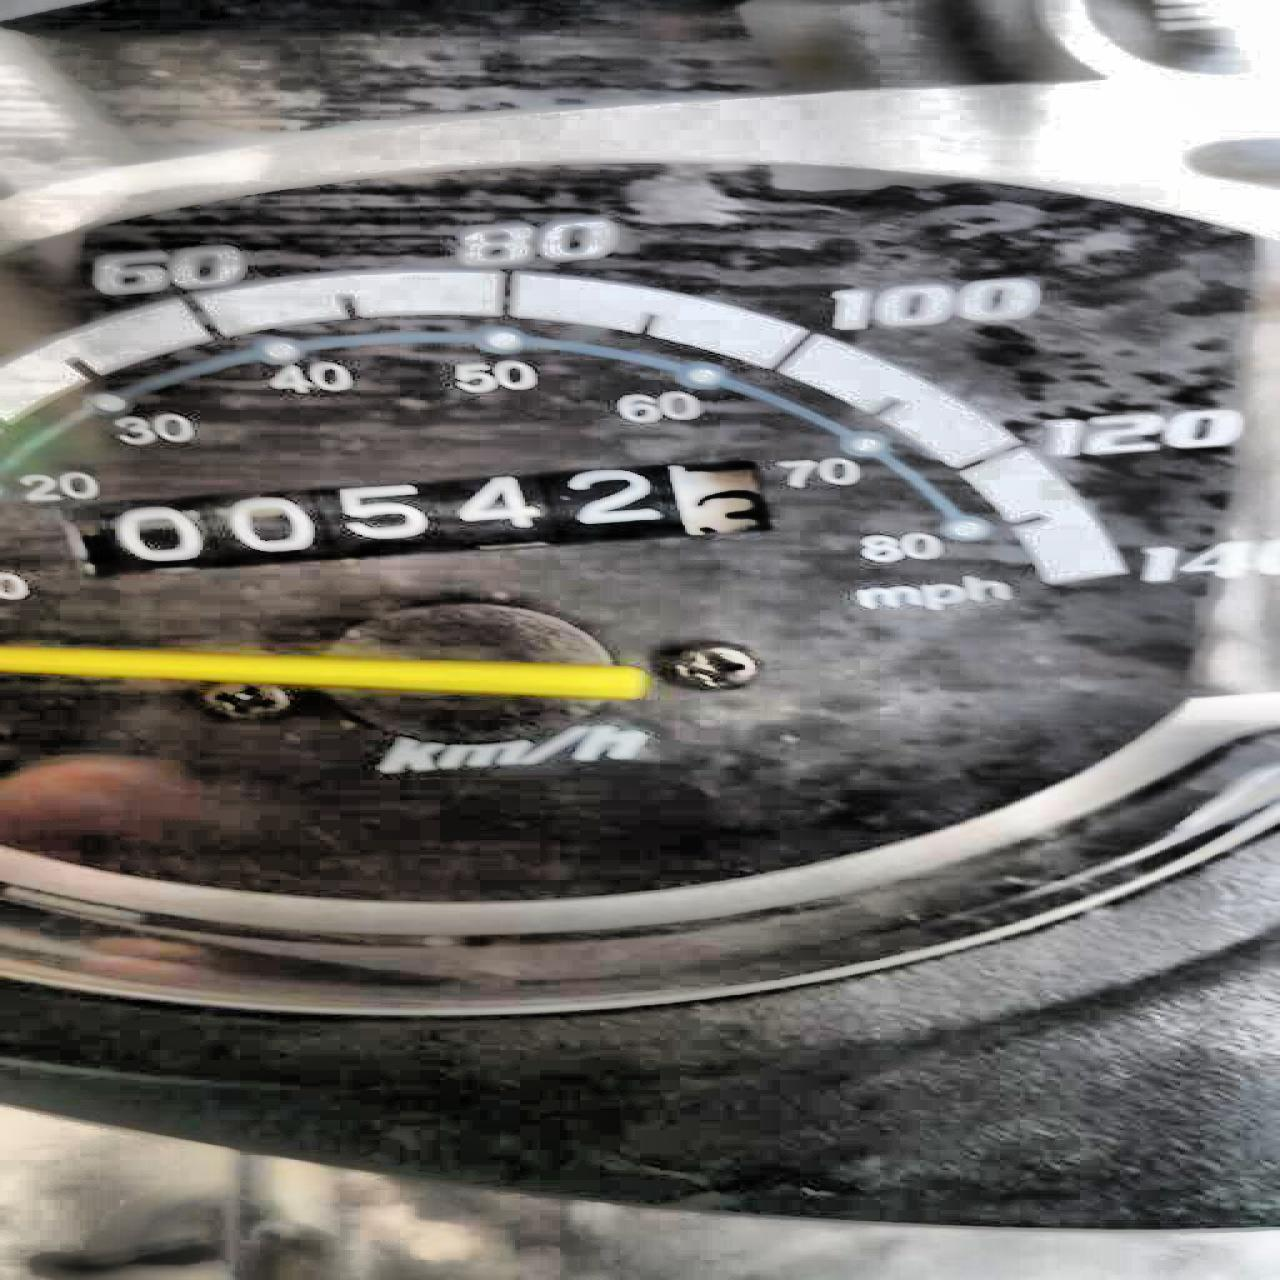0: (113, 505, 203, 561), (223, 497, 315, 551), (55, 471, 97, 498)
2: (563, 467, 662, 524)
3: (686, 488, 772, 535)
4: (452, 474, 545, 529)
5: (335, 483, 430, 538)
odometer: (42, 454, 777, 579)
